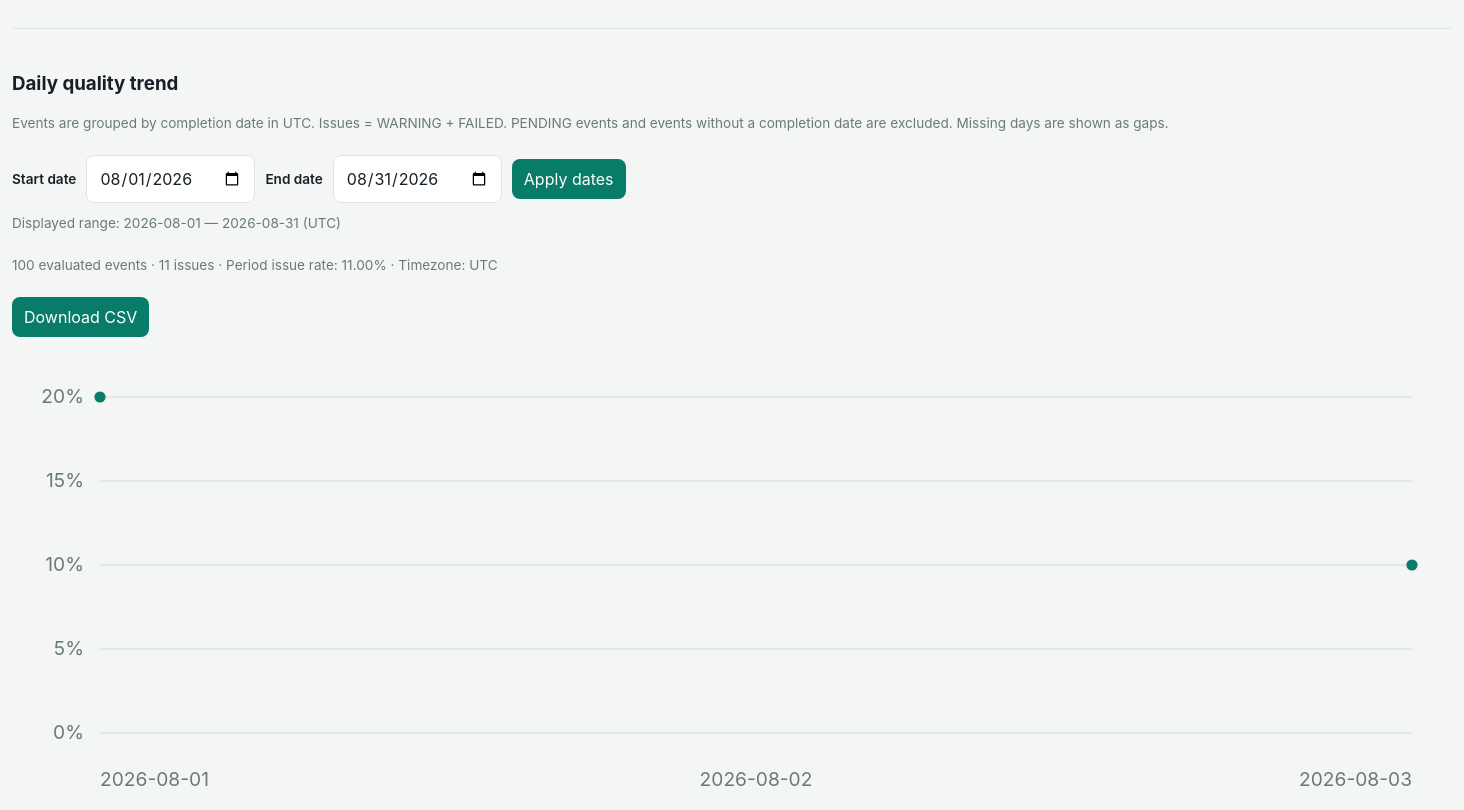
Test: Daily quality chart › rejects a reversed date range without another request
The image size is (1464, 810).
Expected: the picture named "Daily process issue rate" is shown, 12,357 -> 1452,805
Type "2026-09-01" into the date field labelled "Start date" at (171, 179), box 86,155 -> 255,203
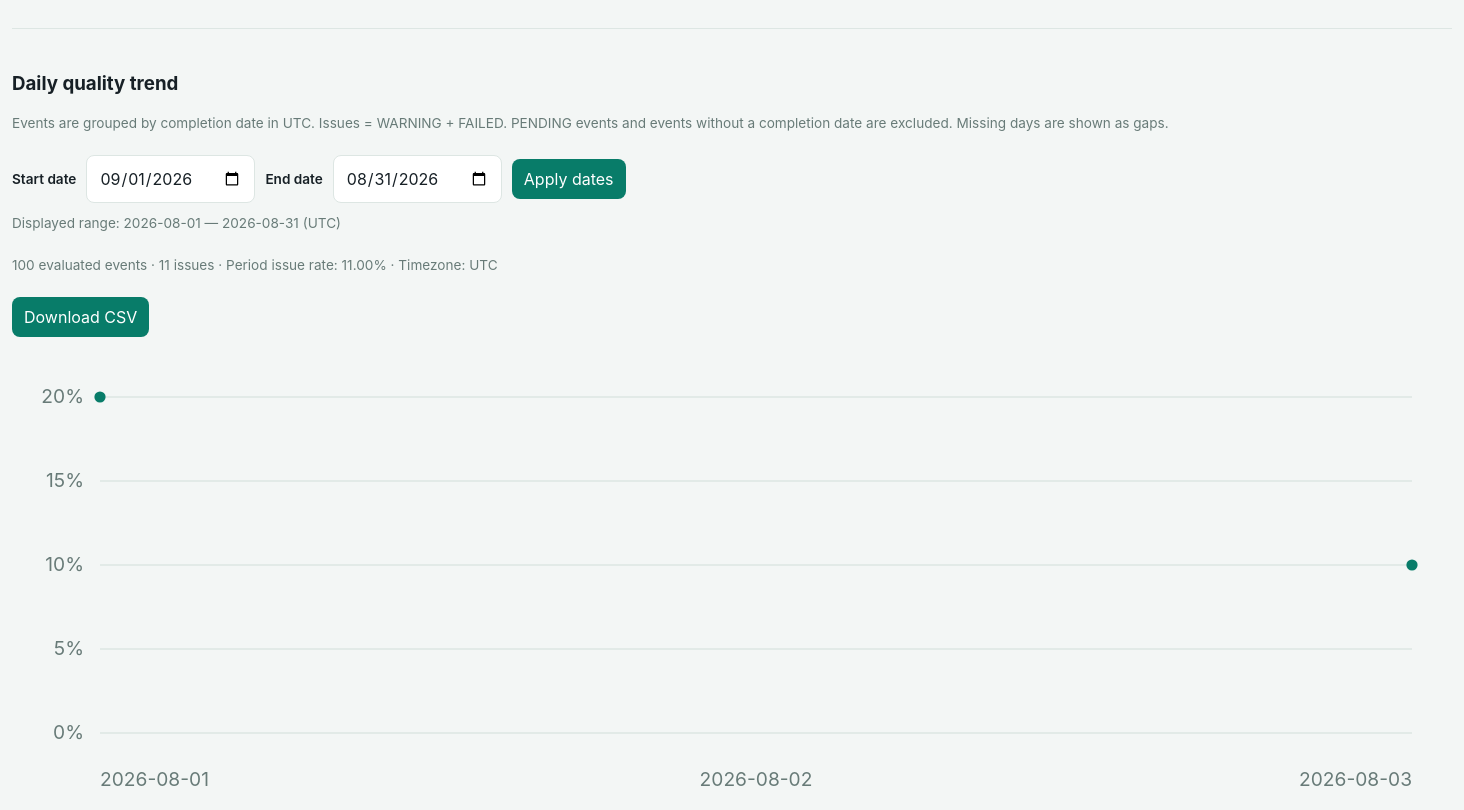
Click the button "Apply dates" at (569, 179), box 512,159 -> 626,199
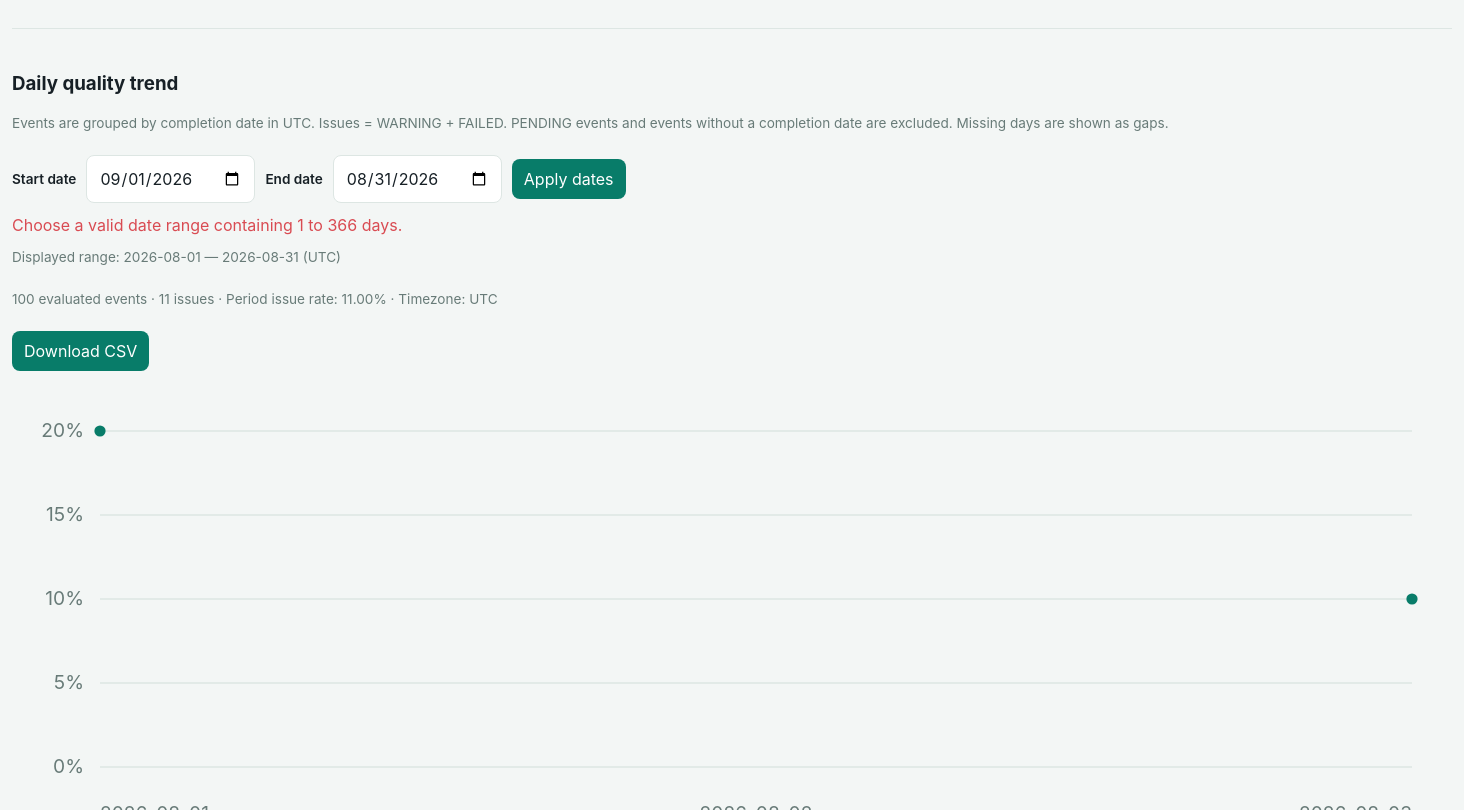
Expected: the message reads "Choose a valid date range containing 1 to 366 days.", 12,215 -> 402,235
